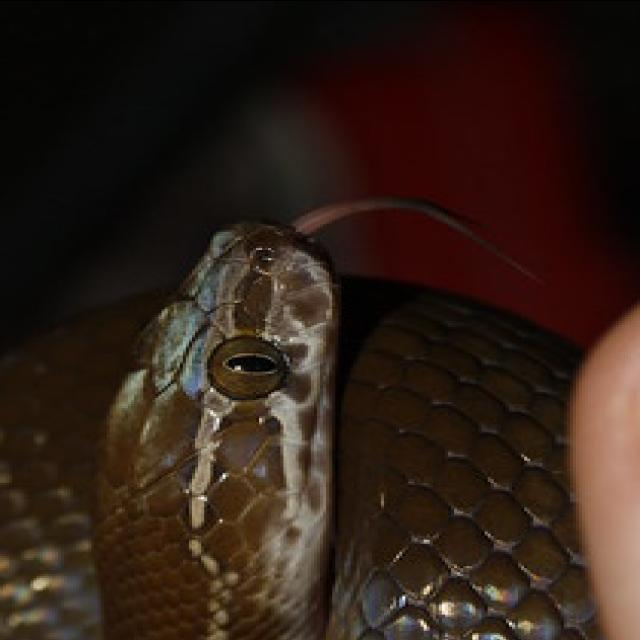Snake: (0, 198, 640, 640)
